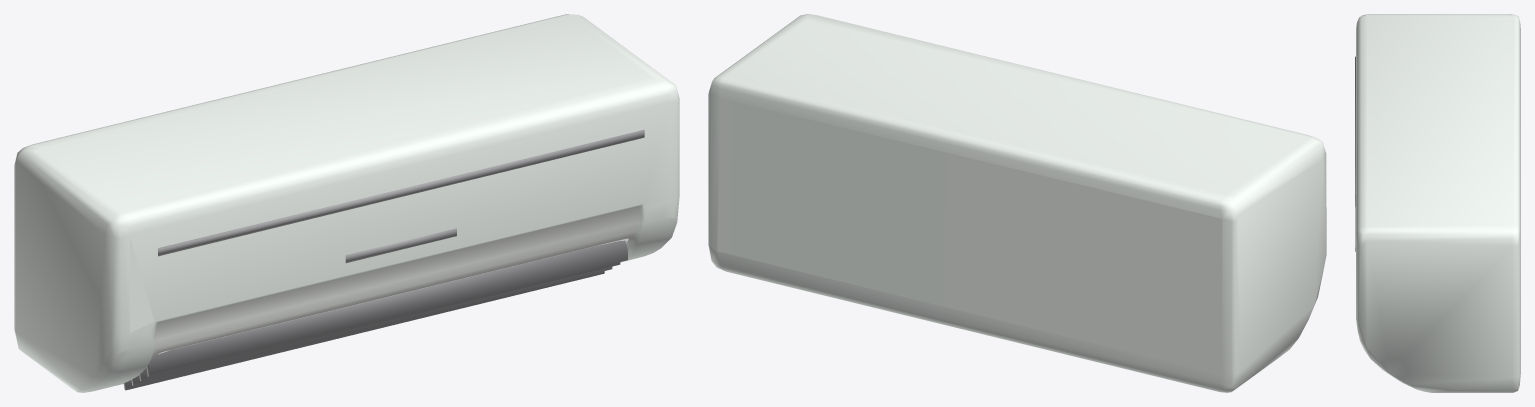
File: cefb6181-f7bf-4572-8569-fd3e563a752a.glb
3 renders of one model, left to right at view 1: azimuth 30°, elevation 25°; view 2: azimuth 150°, elevation 25°; view 3: azimuth 270°, elevation 25°, orthographic. The views are drawn at different scales.
Parts seen in each view (by area): view 1: AirConditionerIndoor; view 2: AirConditionerIndoor; view 3: AirConditionerIndoor.
Boxes of the visible parts, x1,y1,x2,y2 form: AirConditionerIndoor: [14, 14, 679, 392]; AirConditionerIndoor: [708, 14, 1326, 392]; AirConditionerIndoor: [1355, 14, 1520, 392].
Size of what is drawn, in the model's own units: 1.39 by 0.4867 by 0.4385.
1 material, 1 textured.
